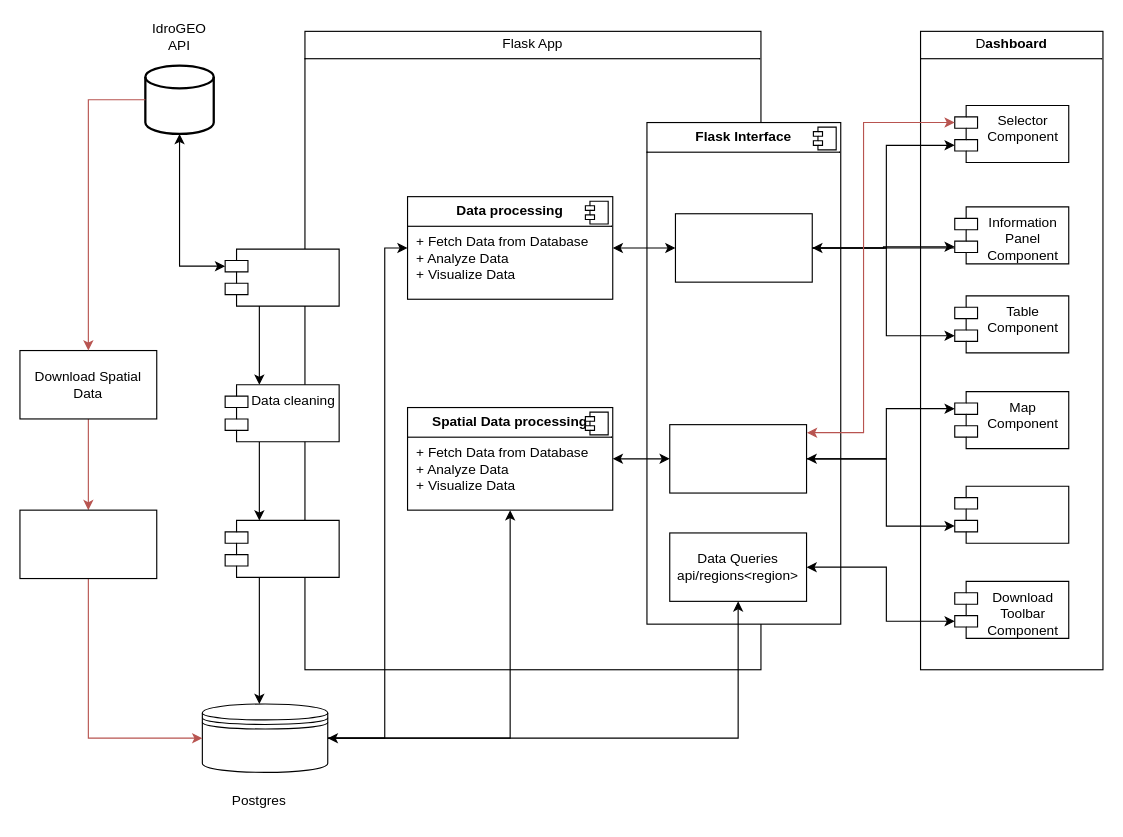
This 1123x837 diagram has some shape labels left out. The shapes that lost their labels are listed below. From the top down, each one's centre as x and y in pixels, then its label:
(743,247): Data api/regions<region>
(281,277): REST API Request
(738,458): Spatial Data api/regions<region>
(1011,514): Layer Management Component
(88,544): QGIS
(281,548): Data storing
